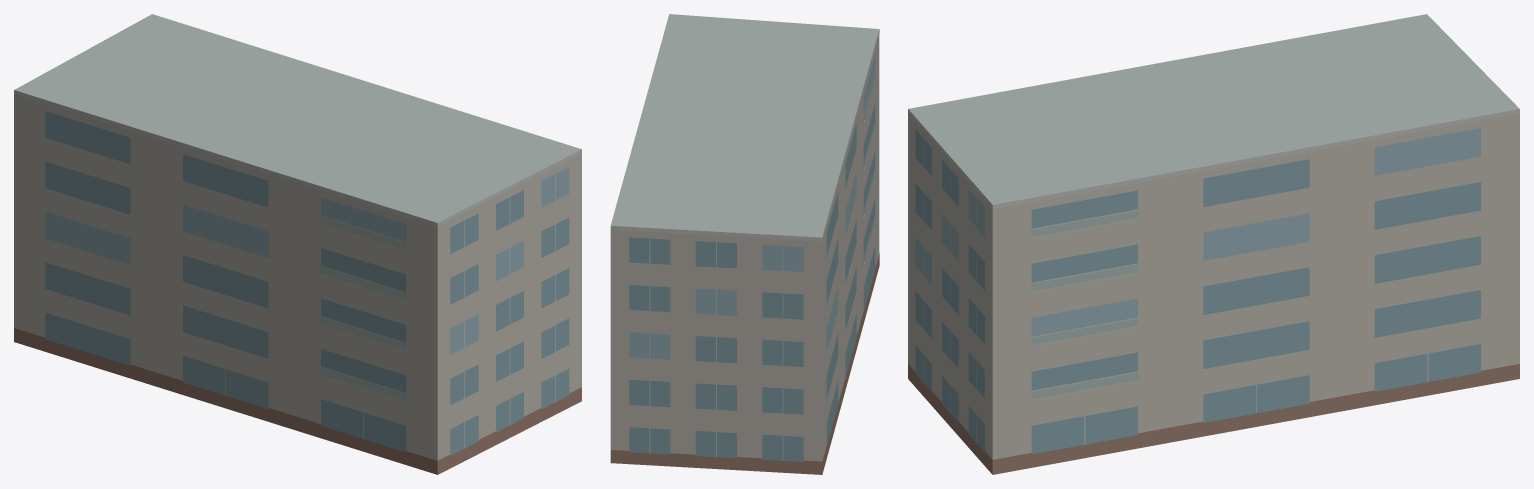
The model's file is residential-751cd1fb-67af-4384-aa9a-8329b2203dd7.glb.
3 views of the same model, side by side, from view 1: azimuth 30°, elevation 25°; view 2: azimuth 150°, elevation 25°; view 3: azimuth 270°, elevation 25° (orthographic). The views are drawn at different scales.
Parts seen in each view (by area): view 1: residential-751cd1fb-67af-4384-aa9a-8329b2203dd7.tmp; view 2: residential-751cd1fb-67af-4384-aa9a-8329b2203dd7.tmp; view 3: residential-751cd1fb-67af-4384-aa9a-8329b2203dd7.tmp.
Boxes of the visible parts, x1=… form: residential-751cd1fb-67af-4384-aa9a-8329b2203dd7.tmp: x1=14, y1=14, x2=581, y2=474; residential-751cd1fb-67af-4384-aa9a-8329b2203dd7.tmp: x1=610, y1=14, x2=879, y2=474; residential-751cd1fb-67af-4384-aa9a-8329b2203dd7.tmp: x1=908, y1=14, x2=1519, y2=474.
Size of the model in its own units: 23.14 by 15.25 by 31.33.
